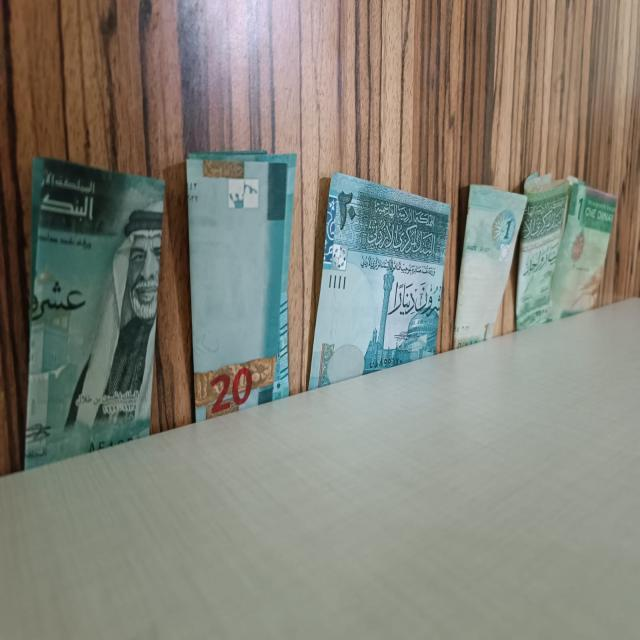1-dinar: (456, 182, 523, 352), (556, 174, 616, 320), (514, 168, 560, 328)
20-dinar: (16, 154, 168, 474), (303, 170, 451, 392), (185, 144, 298, 424)
